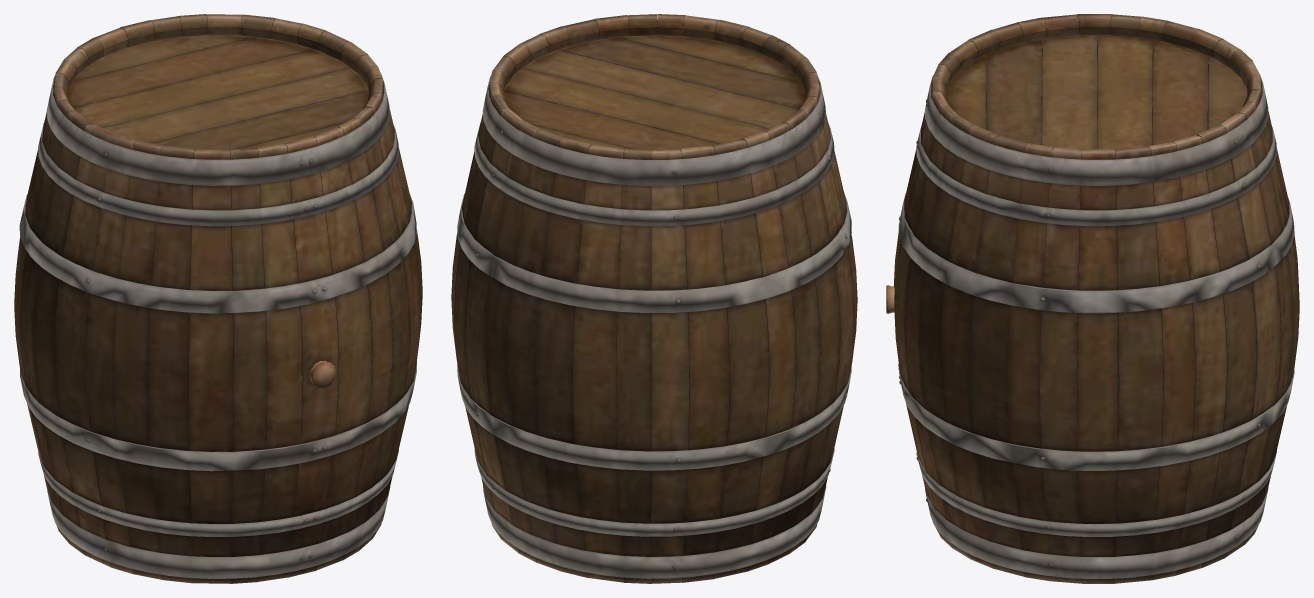
The model's file is wine_barrel_01.glb.
3 renders of one model, left to right at view 1: azimuth 30°, elevation 25°; view 2: azimuth 150°, elevation 25°; view 3: azimuth 270°, elevation 25°, orthographic.
Visible parts, largest first — view 1: wine_barrel_01_Lid; view 2: wine_barrel_01_Lid; view 3: wine_barrel_01_Lid.
Boxes of the visible parts, bbox=[...] form: wine_barrel_01_Lid: bbox=[14, 14, 422, 583]; wine_barrel_01_Lid: bbox=[451, 14, 857, 583]; wine_barrel_01_Lid: bbox=[886, 14, 1299, 583].
Size of the model in its own units: 0.7419 by 0.8713 by 0.7554.
Materials: 1 (1 with a texture image).
